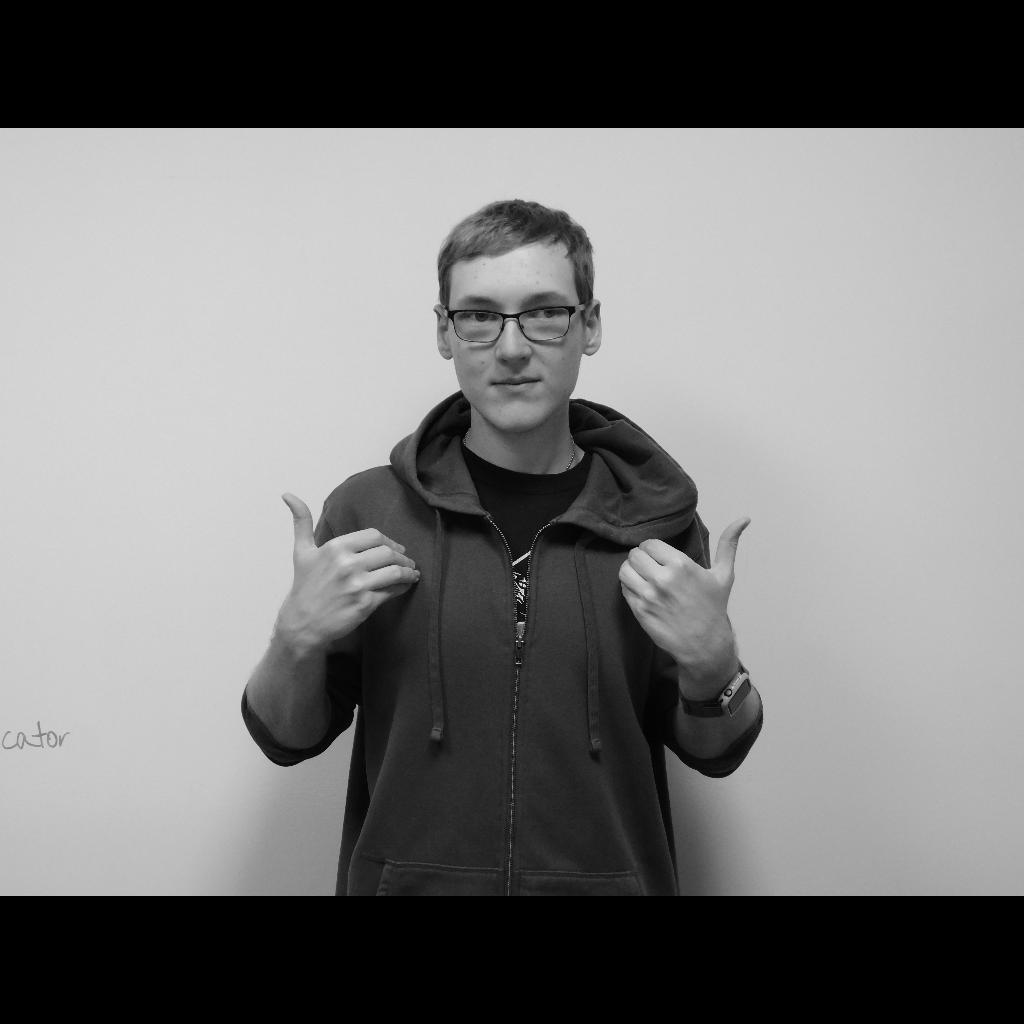have: (282, 492, 752, 666)
